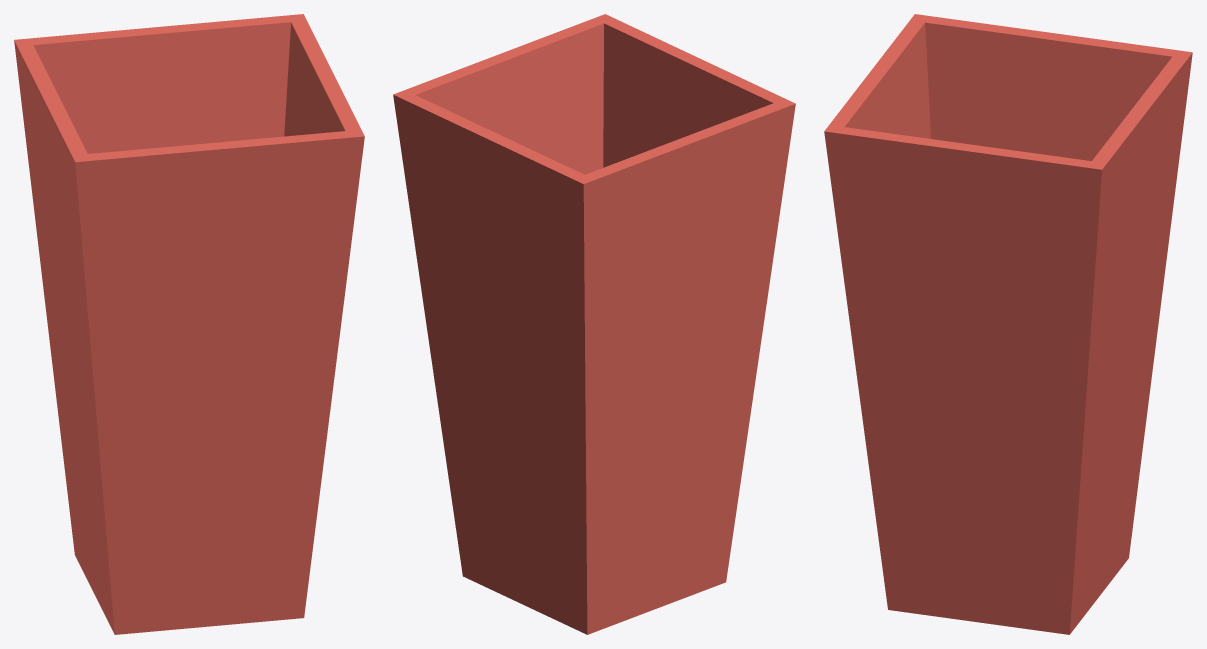
Rendered from Cup.fbx.
The picture shows the model from 3 angles, left to right: view 1: azimuth 30°, elevation 25°; view 2: azimuth 150°, elevation 25°; view 3: azimuth 270°, elevation 25°; orthographic projection. The views are drawn at different scales.
Parts seen in each view (by area): view 1: Plane.010_Plane.140; view 2: Plane.010_Plane.140; view 3: Plane.010_Plane.140.
Part boxes in pixels (x1,y1,x2,y2): Plane.010_Plane.140: (14, 14, 364, 634); Plane.010_Plane.140: (393, 14, 795, 634); Plane.010_Plane.140: (824, 14, 1192, 634).
Bounding box in the file's own units: 21.68 × 31.95 × 21.68.
